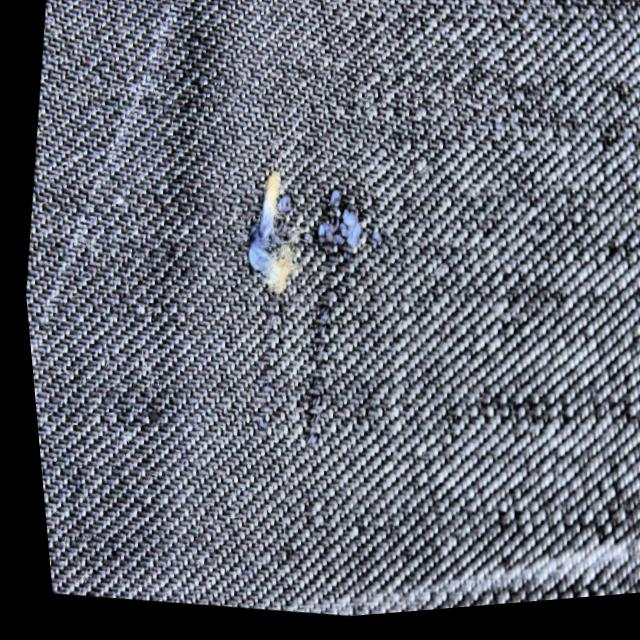Hole: (191, 143, 316, 333), (286, 164, 396, 313), (270, 329, 349, 468), (224, 347, 285, 451)
